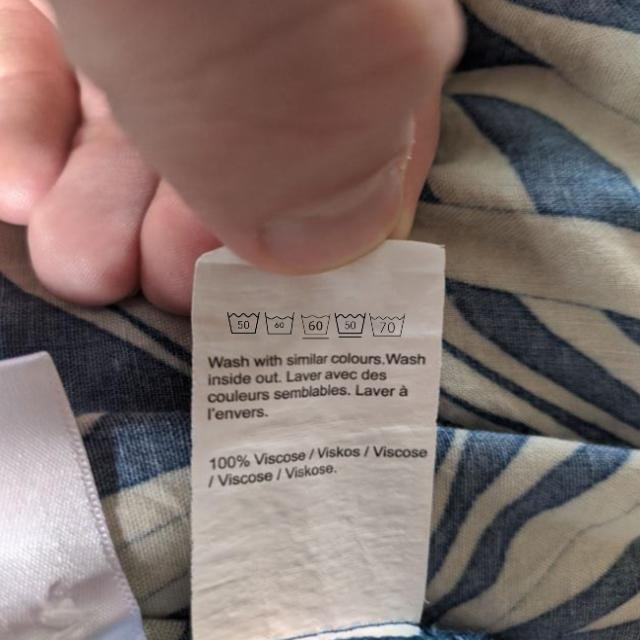50C: (225, 309, 263, 338), (336, 310, 367, 341)
60C: (264, 308, 296, 339), (302, 310, 332, 341)
70C: (369, 312, 409, 340)
